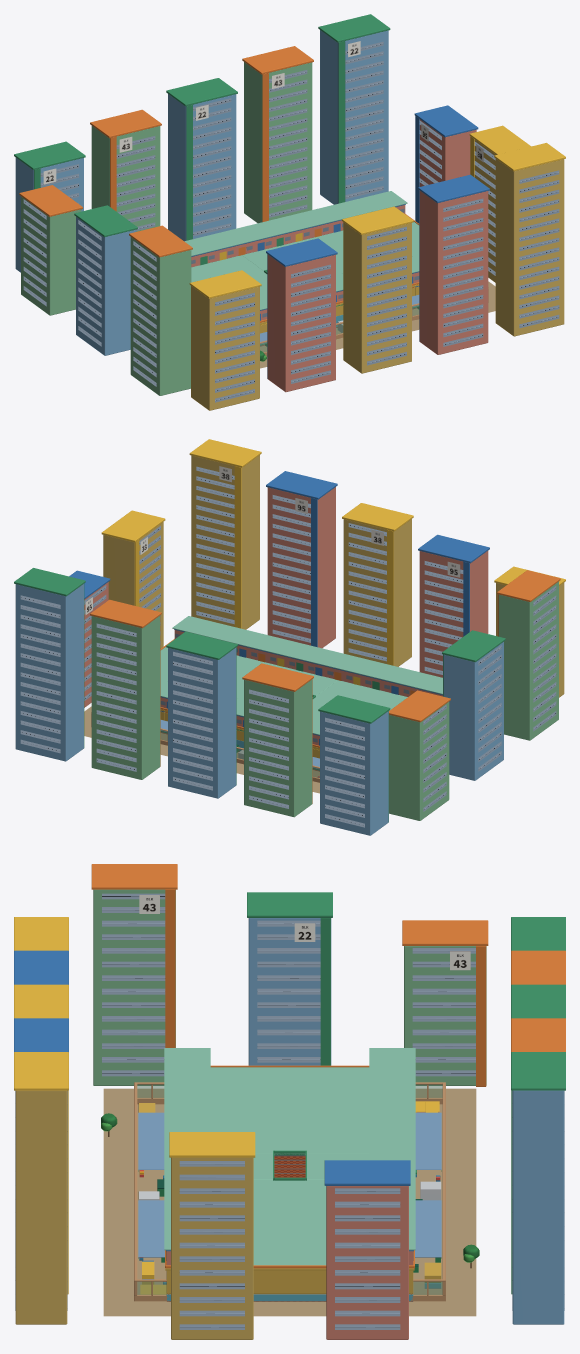
The picture shows the model from 3 angles, top to bottom: view 1: azimuth 30°, elevation 25°; view 2: azimuth 150°, elevation 25°; view 3: azimuth 270°, elevation 25°; orthographic projection. The views are drawn at different scales.
Parts seen in each view (by area): view 1: HDB_c_86c296, HDB_FRONT_c_d9b862, HDB_c_7fb2d6, HDB_FRONT_c_d98a78, HDB_hdb_window, HDB_FRONT_hdb_window, HDB_acc_green, ROOF_slab_mint, HDB_acc_orange, HDB_FRONT_acc_yellow, HDB_FRONT_acc_blue, HDB_c_d98a78 (+6 smaller); view 2: HDB_c_7fb2d6, HDB_c_86c296, HDB_hdb_window, HDB_FRONT_c_d9b862, HDB_FRONT_c_d98a78, HDB_FRONT_hdb_window, ROOF_slab_mint, HDB_acc_green, HDB_acc_orange, HDB_FRONT_acc_yellow, HDB_FRONT_acc_blue, HDB_c_d9b862 (+7 smaller); view 3: ROOF_slab_mint, HDB_hdb_window, HDB_c_7fb2d6, MAP_pavement, HDB_c_86c296, HDB_FRONT_c_d9b862, HDB_acc_orange, HDB_c_d9b862, HDB_acc_green, HDB_c_d98a78, HDB_FRONT_acc_yellow, CANOPY_zinc (+12 smaller).
Boxes of the visible parts, x1,y1,x2,y2 form: HDB_c_86c296: (21,62,312,395); HDB_FRONT_c_d9b862: (191,159,564,410); HDB_c_7fb2d6: (15,30,388,355); HDB_FRONT_c_d98a78: (267,190,488,392); HDB_hdb_window: (23,41,495,386); HDB_FRONT_hdb_window: (215,170,559,402); HDB_acc_green: (14,14,390,240); ROOF_slab_mint: (184,191,419,310); HDB_acc_orange: (19,46,313,257); HDB_FRONT_acc_yellow: (189,143,565,397); HDB_FRONT_acc_blue: (266,174,489,378); HDB_c_d98a78: (419,119,476,186); HDB_c_7fb2d6: (15,584,503,835); HDB_c_86c296: (91,581,558,820); HDB_hdb_window: (20,526,556,827); HDB_FRONT_c_d9b862: (191,455,564,697); HDB_FRONT_c_d98a78: (267,487,488,677); HDB_FRONT_hdb_window: (196,466,463,674); ROOF_slab_mint: (160,616,442,735); HDB_acc_green: (14,568,505,822); HDB_acc_orange: (90,570,560,803); HDB_FRONT_acc_yellow: (189,439,565,665); HDB_FRONT_acc_blue: (266,471,489,647); HDB_c_d9b862: (103,522,163,648); ROOF_slab_mint: (164,1048,415,1265); HDB_hdb_window: (102,893,564,1329); HDB_c_7fb2d6: (248,918,564,1324); MAP_pavement: (103,1088,476,1316); HDB_c_86c296: (93,889,486,1085); HDB_FRONT_c_d9b862: (15,1090,67,1324); HDB_acc_orange: (91,864,565,1086); HDB_c_d9b862: (171,1157,253,1339); HDB_acc_green: (247,892,565,1294); HDB_c_d98a78: (326,1186,408,1339); HDB_FRONT_acc_yellow: (14,917,68,1294); CANOPY_zinc: (138,1112,441,1257).
Size of what is drawn, in the model's own units: 127 by 50.62 by 107.
Materials: 53 (4 with a texture image).
